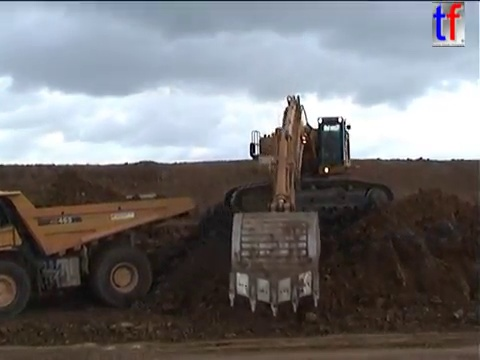excavator: (221, 92, 397, 318)
truck: (1, 187, 197, 320)
